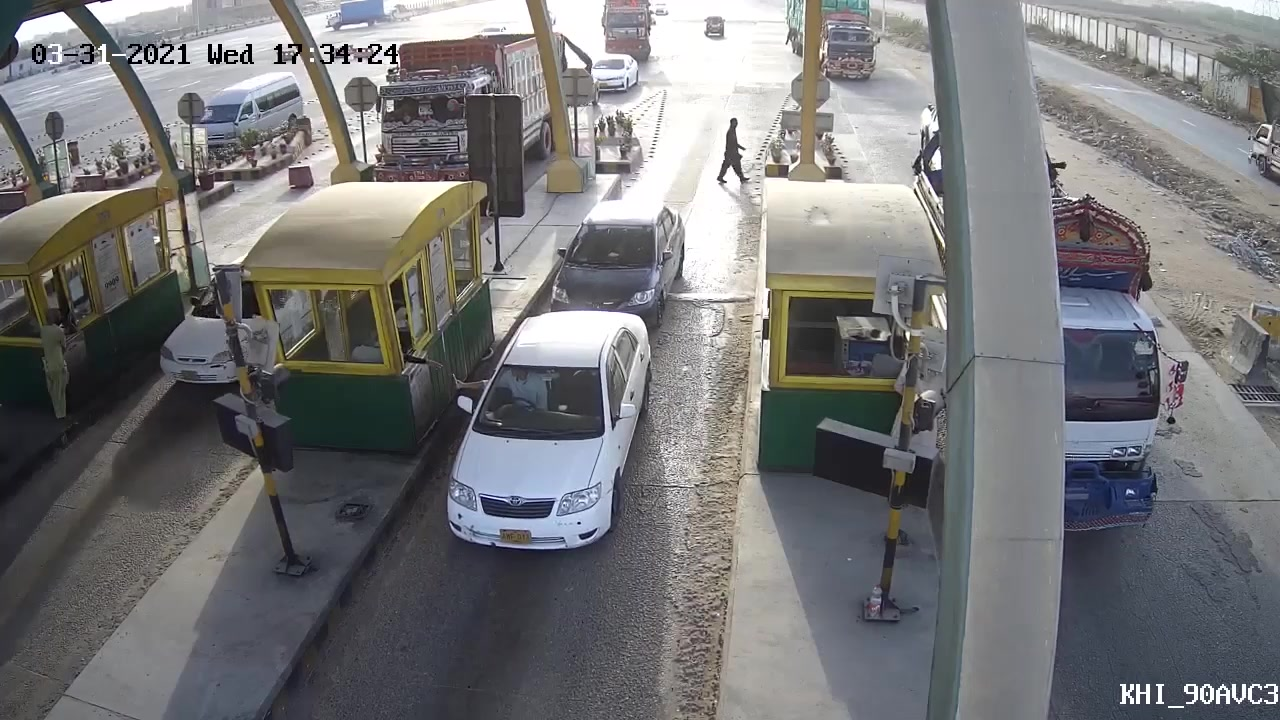F1: (437, 308, 655, 579)
